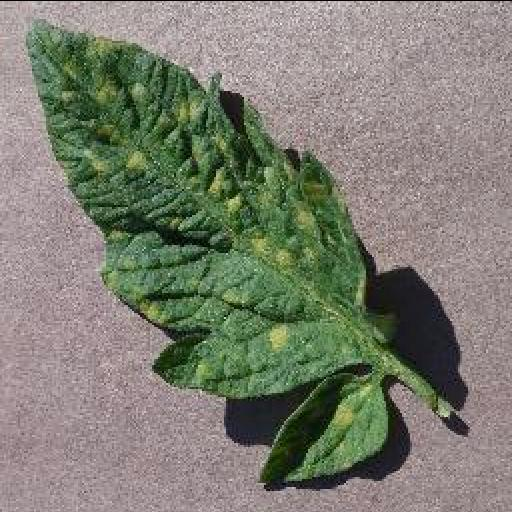disease_tomato: (22, 16, 396, 489)
